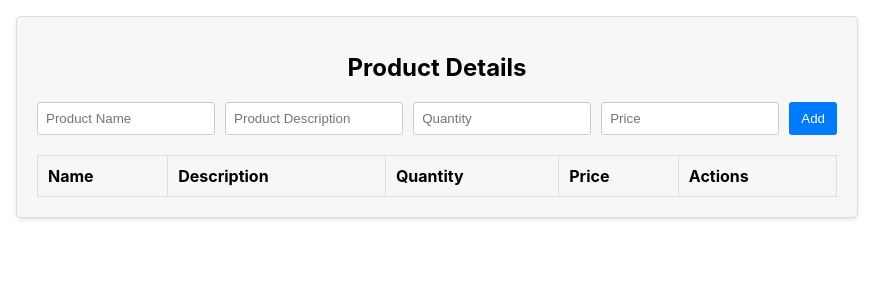
Test: App › displaying the error message for the empty input fields › displays_an_error_message_when_adding_a_product_with_an_empty_product_name
The image size is (875, 296).
Type "New Description" into the field with placeholder "Product Description" at [314, 119], box [225,102,403,135]
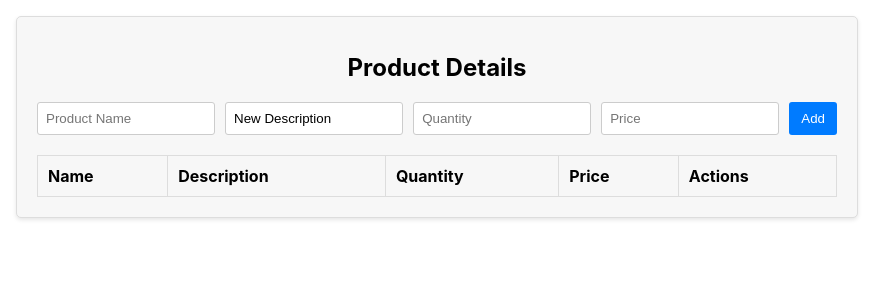
Type "10" into the number field with placeholder "Quantity" at [502, 119], box [413,102,591,135]
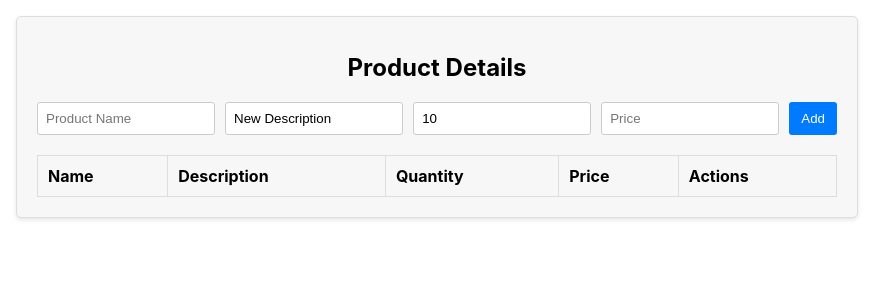
Type "19.99" into the number field with placeholder "Price" at [690, 119], box [601,102,779,135]
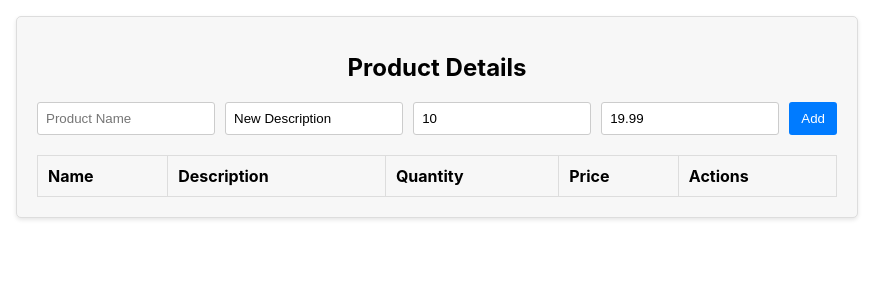
Click the button "Add" at [813, 119], box [789,102,837,135]
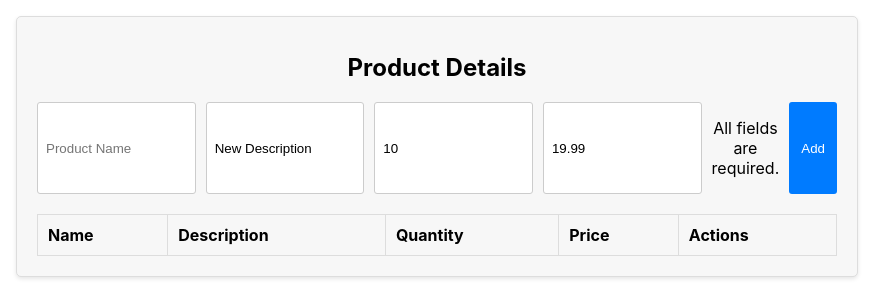
Check: the text "All fields are required." is shown, box [712,118,779,178]
